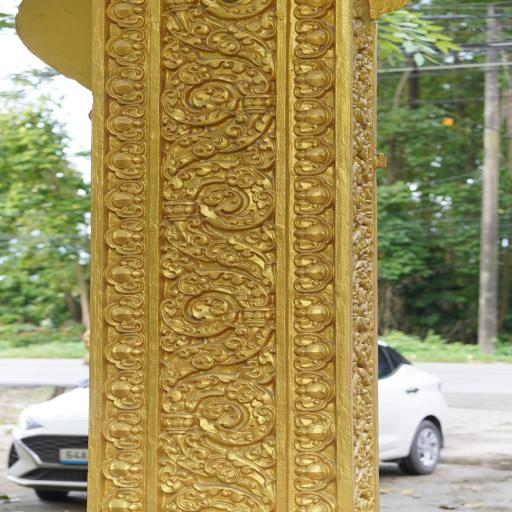la: (172, 54, 278, 166), (170, 332, 274, 443), (170, 219, 261, 334), (169, 155, 272, 236), (161, 437, 269, 512), (163, 0, 272, 62), (87, 290, 155, 334), (87, 445, 153, 489), (97, 250, 160, 294), (100, 23, 160, 68), (98, 367, 152, 414), (97, 176, 155, 218), (100, 211, 154, 256), (287, 16, 342, 60), (97, 102, 155, 142), (98, 330, 150, 374), (100, 64, 154, 106), (290, 290, 337, 338), (289, 170, 337, 216), (97, 412, 152, 452), (289, 250, 338, 294), (287, 332, 338, 373), (288, 406, 333, 452), (286, 55, 332, 99), (100, 140, 150, 180), (289, 136, 337, 176), (286, 96, 328, 140), (290, 451, 335, 491), (292, 210, 331, 256), (292, 367, 330, 412), (100, 0, 154, 29), (97, 487, 152, 512), (296, 485, 334, 512), (289, 0, 334, 21)
